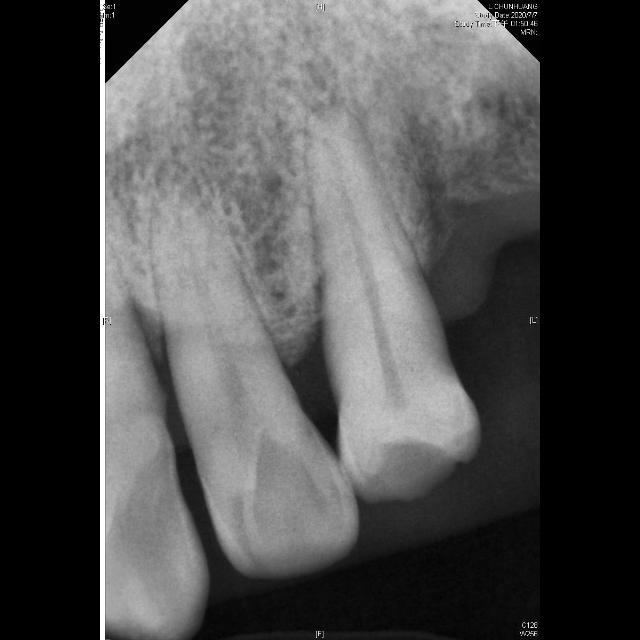teeth: (149, 192, 357, 577), (309, 113, 479, 501)
